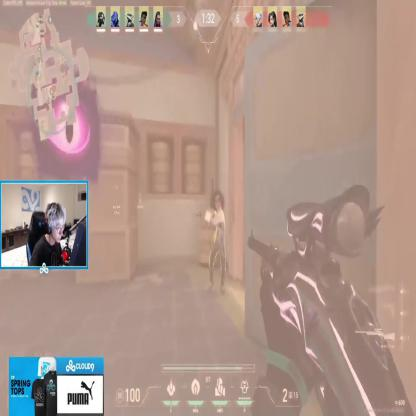enemy: (206, 192, 226, 297)
enemy_head: (214, 194, 222, 211)
